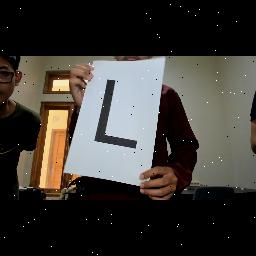l: (94, 75, 142, 159)
